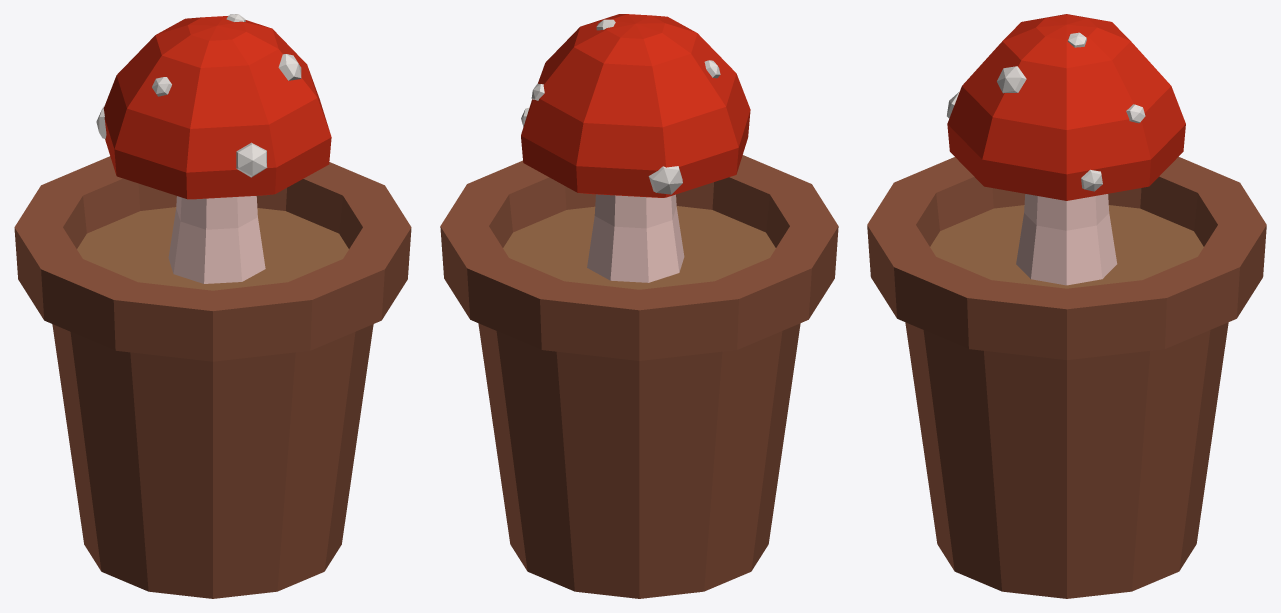
Rendered from Pot_04.fbx.
3 views of the same model, side by side, from view 1: azimuth 30°, elevation 25°; view 2: azimuth 150°, elevation 25°; view 3: azimuth 270°, elevation 25° (orthographic).
Visible parts, largest first — view 1: Pot_04; view 2: Pot_04; view 3: Pot_04.
Boxes of the visible parts, x1,y1,x2,y2 form: Pot_04: (14, 14, 411, 598); Pot_04: (440, 14, 838, 598); Pot_04: (867, 14, 1266, 598).
Size of the model in its own units: 91.25 by 132 by 91.25.
